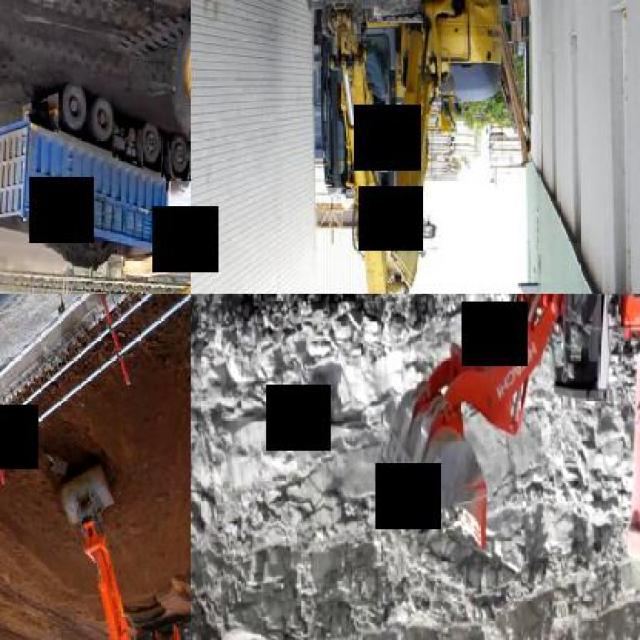buldozerpayloadergrader: (374, 294, 638, 555), (50, 0, 189, 292)
dump_truck: (0, 80, 189, 282)
excavator: (296, 0, 512, 292), (56, 458, 190, 638)
